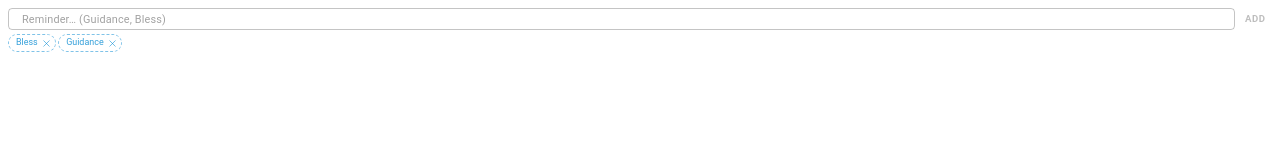
Test: typing narrows the recent reminders
This screenshot has width=1280, height=160.
In the field labelled "Reminder": (621, 19) [8, 8, 1234, 30], type "gui"
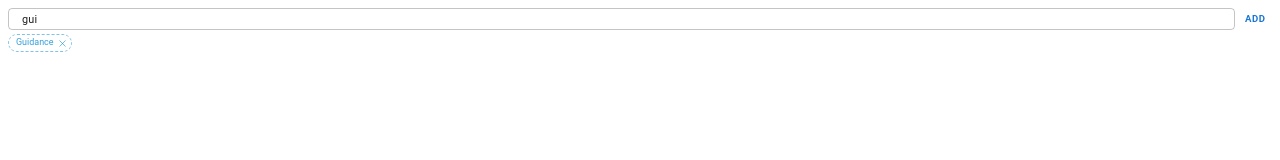
Expected: the text "Guidance" is shown, [16, 37, 54, 47]
Result: the button "Bless" is gone
